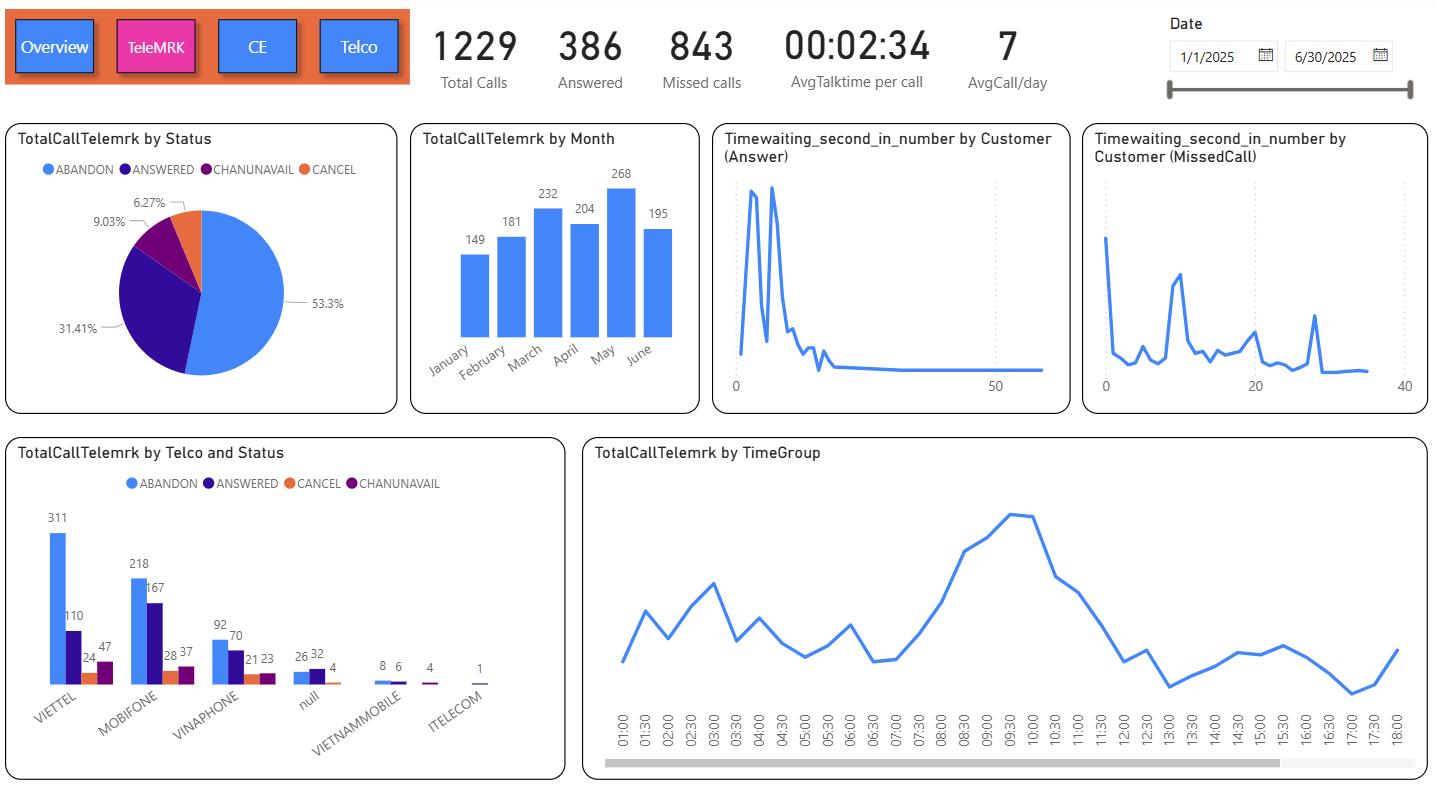

This screenshot's page, from the dashboard's own definition file:
{"tool":"powerbi","page":{"name":"TeleMRK","canvas":[1280,720],"ordinal":1},"visuals":[{"type":"card","fields":{"Values":["Hotline.TotalCallTelemrk"]},"box":[367.1,3.6,113.8,91.9],"z":0,"group":"g1"},{"type":"pageNavigator","box":[8,11.5,359.1,66.5],"z":0},{"type":"card","fields":{"Values":["Hotline.CountAnsTelemrk"]},"box":[479.1,3.6,96.8,91.9],"z":1000,"group":"g1"},{"type":"slicer","fields":{"Values":["Hotline.Date"]},"box":[1027.7,11.5,242.1,94.9],"z":1000},{"type":"group","id":"g1","title":"Group 1","box":[367.1,2.7,586.1,93.1],"z":2000},{"type":"card","fields":{"Values":["Hotline.CountMisscallTelemrk"]},"box":[573.4,3.6,104.4,91.9],"z":2000,"group":"g1"},{"type":"card","fields":{"Values":["Hotline.AvgTalktime_Tele_per_call_hours"]},"box":[683.7,2.7,159.6,91.9],"z":3000,"group":"g1"},{"type":"pieChart","fields":{"Y":["Hotline.TotalCallTelemrk"],"Category":["Hotline.Status"]},"box":[8,112.6,348.5,258],"z":3000},{"type":"card","fields":{"Values":["Hotline.AvgCallTelemrk_per_day"]},"box":[840.4,3.9,112.8,91.9],"z":4000,"group":"g1"},{"type":"clusteredColumnChart","fields":{"Category":["Hotline.Telco"],"Series":["Hotline.Status"],"Y":["Hotline.TotalCallTelemrk"]},"box":[8,391,497.4,304.1],"z":4000},{"type":"lineChart","fields":{"Category":["Hotline.TimeGroup"],"Y":["Hotline.TotalCallTelemrk"]},"box":[519.6,391,750.1,304.1],"z":5000},{"type":"lineChart","title":"Timewaiting_second_in_number by Customer (Answer)","fields":{"Category":["Hotline.Timewaiting_second_in_number"],"Y":["Hotline.CountAnsTelemrk"]},"box":[634.9,112.4,317.9,258],"z":6000},{"type":"clusteredColumnChart","fields":{"Category":["Hotline.Date.Variation.Date Hierarchy.Month"],"Y":["Hotline.TotalCallTelemrk"]},"box":[367.1,112.6,257.1,258],"z":7000},{"type":"lineChart","title":"Timewaiting_second_in_number by Customer (MissedCall)","fields":{"Category":["Hotline.Timewaiting_second_in_number"],"Y":["Hotline.CountMisscallTelemrk"]},"box":[963,112.4,306.9,258],"z":8000}]}

Visuals, with their boxes in screenshot pixels (x1, y1, x2, y2), scaled from the page's 1280x720 canvas onto the 1437x791 screenshot:
card - Hotline.TotalCallTelemrk: <region>412, 4, 540, 105</region>
pageNavigator: <region>9, 13, 412, 86</region>
card - Hotline.CountAnsTelemrk: <region>538, 4, 647, 105</region>
slicer - Hotline.Date: <region>1154, 13, 1426, 117</region>
"Group 1" group: <region>412, 3, 1070, 105</region>
card - Hotline.CountMisscallTelemrk: <region>644, 4, 761, 105</region>
card - Hotline.AvgTalktime_Tele_per_call_hours: <region>768, 3, 947, 104</region>
pieChart - Hotline.TotalCallTelemrk x Hotline.Status: <region>9, 124, 400, 407</region>
card - Hotline.AvgCallTelemrk_per_day: <region>943, 4, 1070, 105</region>
clusteredColumnChart - Hotline.Telco x Hotline.Status: <region>9, 430, 567, 764</region>
lineChart - Hotline.TimeGroup x Hotline.TotalCallTelemrk: <region>583, 430, 1425, 764</region>
"Timewaiting_second_in_number by Customer (Answer)" lineChart: <region>713, 123, 1070, 407</region>
clusteredColumnChart - Hotline.Date.Variation.Date Hierarchy.Month x Hotline.TotalCallTelemrk: <region>412, 124, 701, 407</region>
"Timewaiting_second_in_number by Customer (MissedCall)" lineChart: <region>1081, 123, 1426, 407</region>
